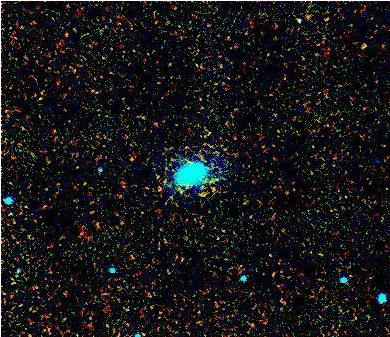star: (352, 27, 382, 57)
